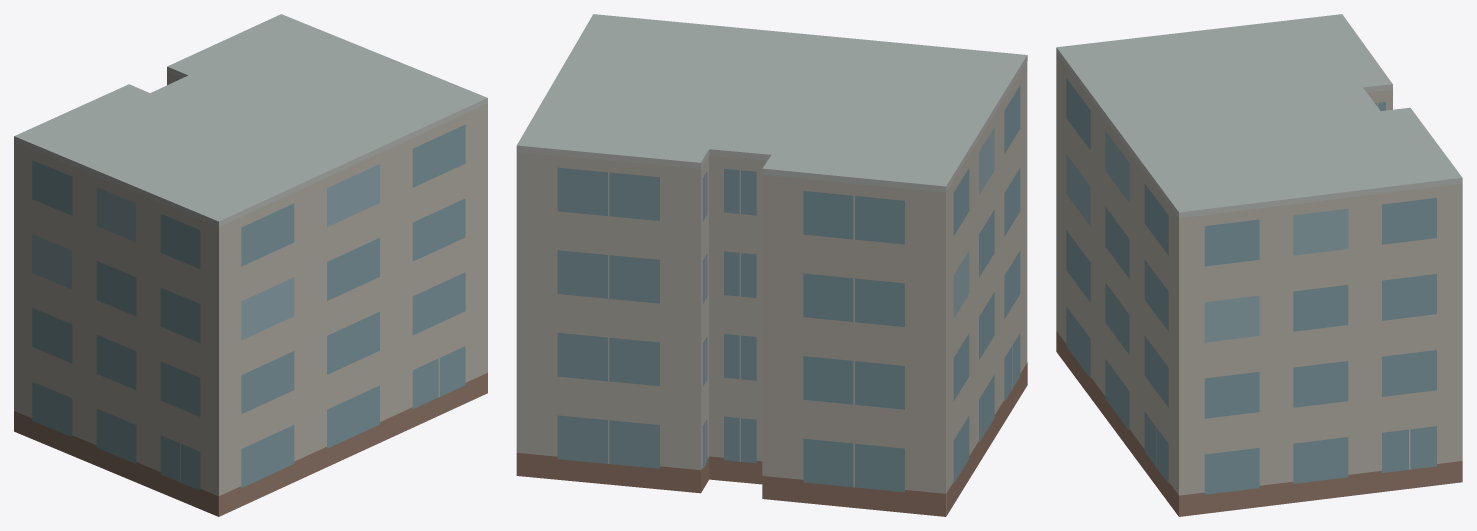
Rendered from survey-upis-32980471.glb.
The picture shows the model from 3 angles, left to right: view 1: azimuth 30°, elevation 25°; view 2: azimuth 150°, elevation 25°; view 3: azimuth 270°, elevation 25°; orthographic projection. The views are drawn at different scales.
Parts seen in each view (by area): view 1: survey-upis-32980471.tmp; view 2: survey-upis-32980471.tmp; view 3: survey-upis-32980471.tmp.
Boxes of the visible parts, x1=… form: survey-upis-32980471.tmp: x1=14, y1=14, x2=487, y2=516; survey-upis-32980471.tmp: x1=516, y1=14, x2=1027, y2=516; survey-upis-32980471.tmp: x1=1056, y1=14, x2=1462, y2=516.
Size of the model in its own units: 18.05 by 12.9 by 15.61.
